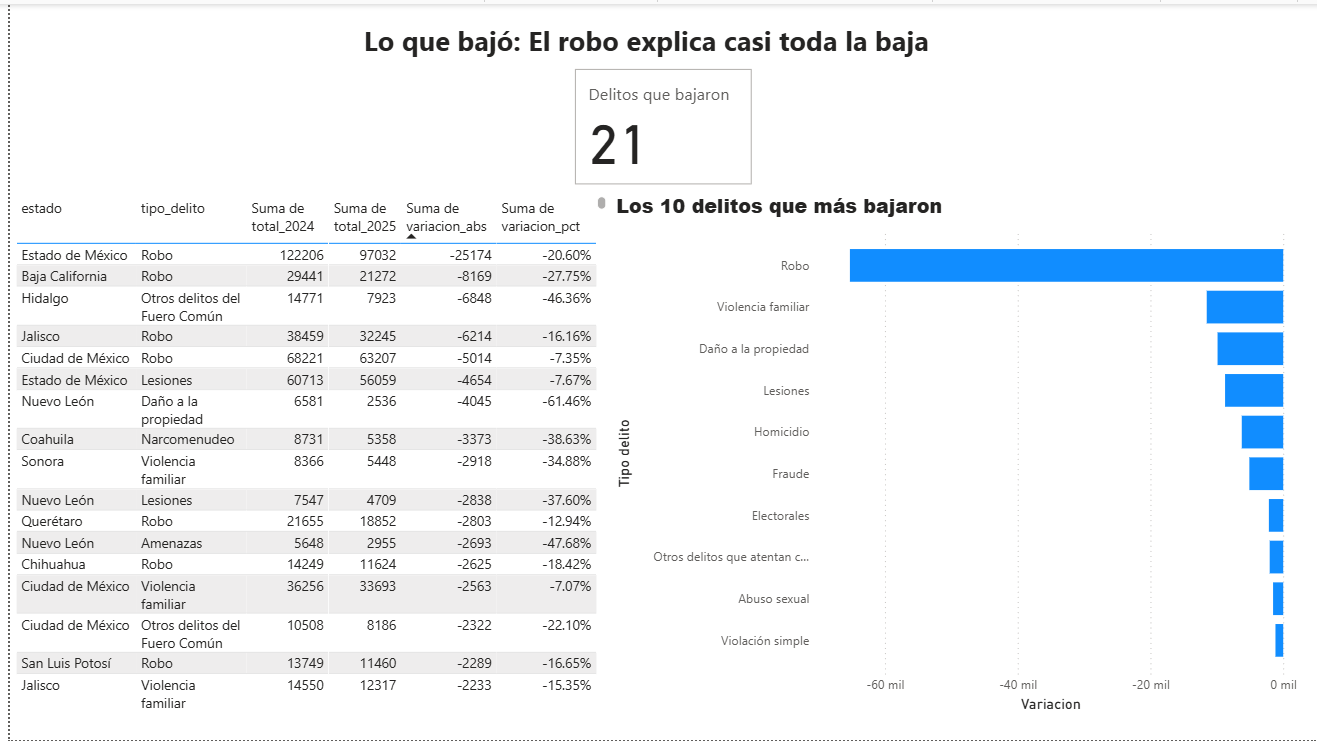

Layout of this report page (visuals, bound fields, positions):
{"tool":"powerbi","page":{"name":"Positivos","canvas":[1280,720],"ordinal":1},"visuals":[{"type":"textbox","box":[340.8,12.3,597.1,46.6],"z":0},{"type":"cardVisual","fields":{"Data":["fact_incidencia_mensual.Delitos que bajaron"]},"box":[548,58.9,183.9,123.8],"z":1000},{"type":"clusteredBarChart","title":"Los 10 delitos que más bajaron","fields":{"Category":["dim_delito.tipo_delito"],"Y":["fact_incidencia_mensual.Variacion"]},"box":[588.2,182.9,675.6,514],"z":2000},{"type":"tableEx","fields":{"Values":["positivos_bajaron.estado","positivos_bajaron.tipo_delito","Sum(positivos_bajaron.total_2024)","Sum(positivos_bajaron.total_2025)","Sum(positivos_bajaron.variacion_abs)","Sum(positivos_bajaron.variacion_pct)"]},"box":[0,182.9,588.2,514],"z":3000}]}

Visuals, with their boxes in screenshot pixels (x1, y1, x2, y2), scaled from the page's 1280x720 canvas onto the 1317x742 screenshot:
textbox: bbox(351, 13, 965, 61)
cardVisual - fact_incidencia_mensual.Delitos que bajaron: bbox(564, 61, 753, 188)
"Los 10 delitos que más bajaron" clusteredBarChart: bbox(605, 188, 1300, 718)
tableEx - positivos_bajaron.estado x positivos_bajaron.tipo_delito: bbox(0, 188, 605, 718)
